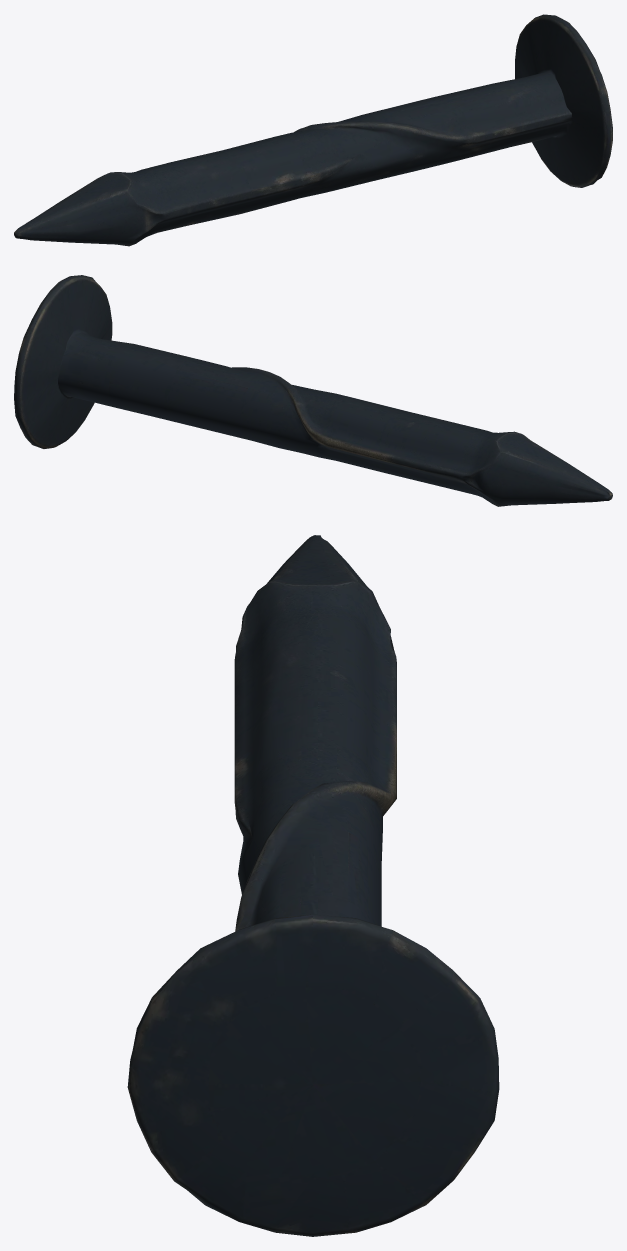
Rendered from iron-nail.glb.
3 renders of one model, top to bottom at view 1: azimuth 30°, elevation 25°; view 2: azimuth 150°, elevation 25°; view 3: azimuth 270°, elevation 25°, orthographic. The views are drawn at different scales.
Size of the model in its own units: 0.9556 by 0.2632 by 0.2764.
Materials: 1 (1 with a texture image).
